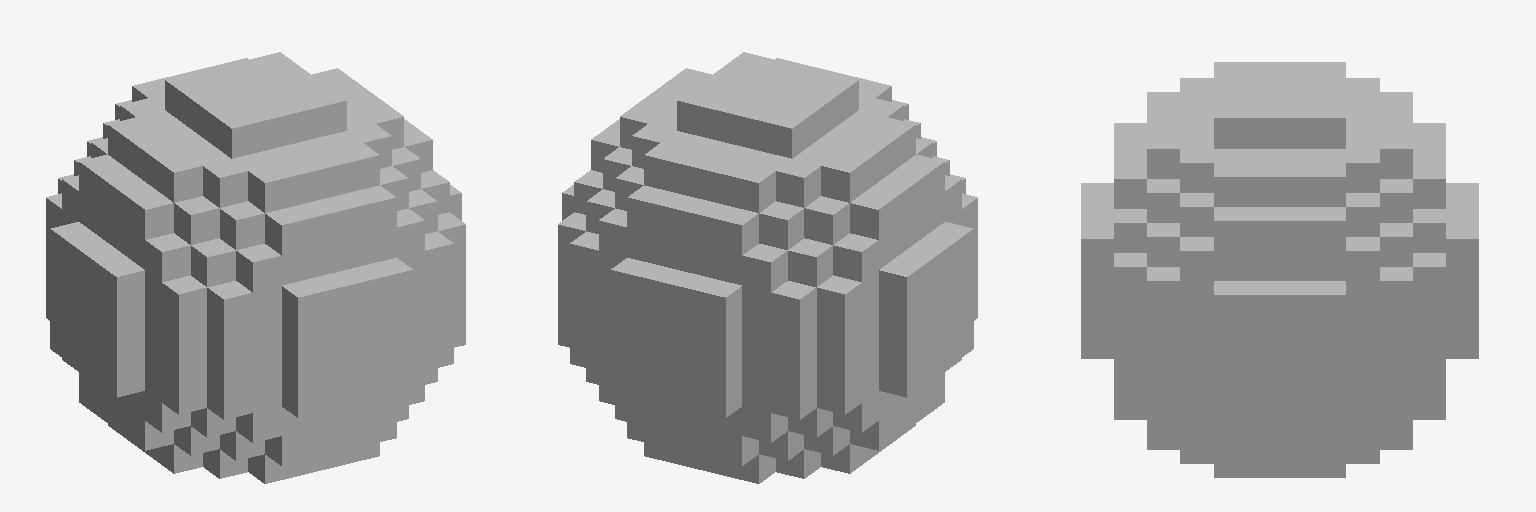
File: LampIdea.obj
3 renders of one model, left to right at view 1: azimuth 30°, elevation 25°; view 2: azimuth 150°, elevation 25°; view 3: azimuth 270°, elevation 25°, orthographic.
Visible parts, largest first — view 1: object 1; view 2: object 1; view 3: object 1.
Part boxes in pixels (bbox=[...]): object 1: bbox=[46, 52, 465, 483]; object 1: bbox=[558, 52, 977, 483]; object 1: bbox=[1081, 62, 1478, 477].
Size of the model in its own units: 1.2 by 1.1 by 1.2.